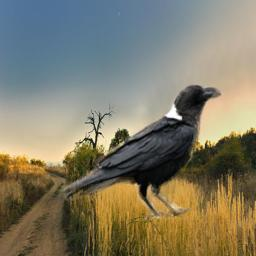Crow: (61, 79, 225, 221)
